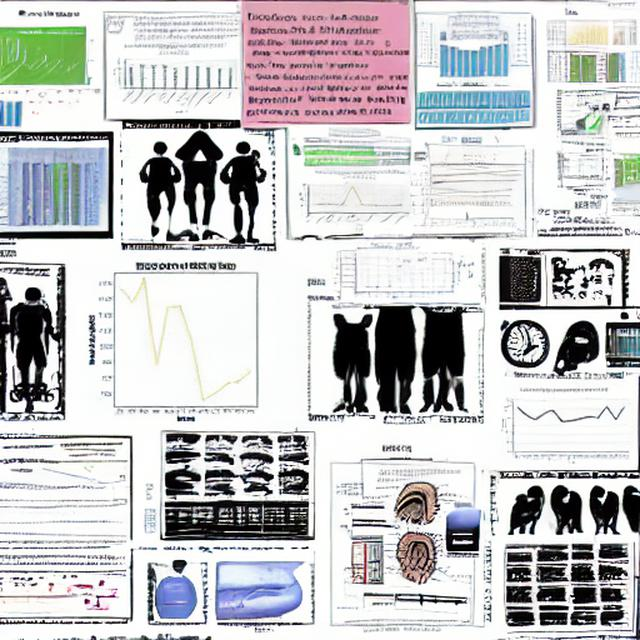Graph: (67, 252, 299, 426), (497, 386, 637, 467), (109, 41, 238, 116), (294, 167, 409, 233), (337, 244, 437, 302), (0, 30, 85, 85), (432, 40, 509, 83), (558, 19, 609, 48)
